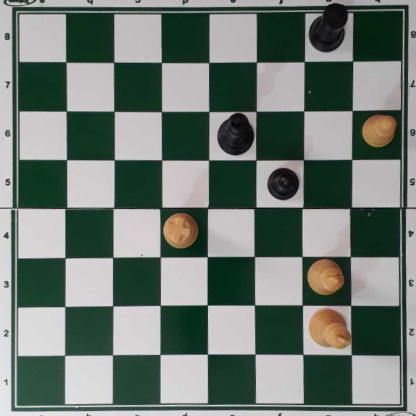black-king: (215, 112, 256, 155)
black-pawn: (267, 165, 299, 201)
black-rook: (307, 2, 350, 52)
white-bishop: (307, 257, 345, 295)
white-king: (307, 307, 351, 350)
white-pawn: (361, 112, 397, 148)
white-rook: (163, 212, 198, 248)
